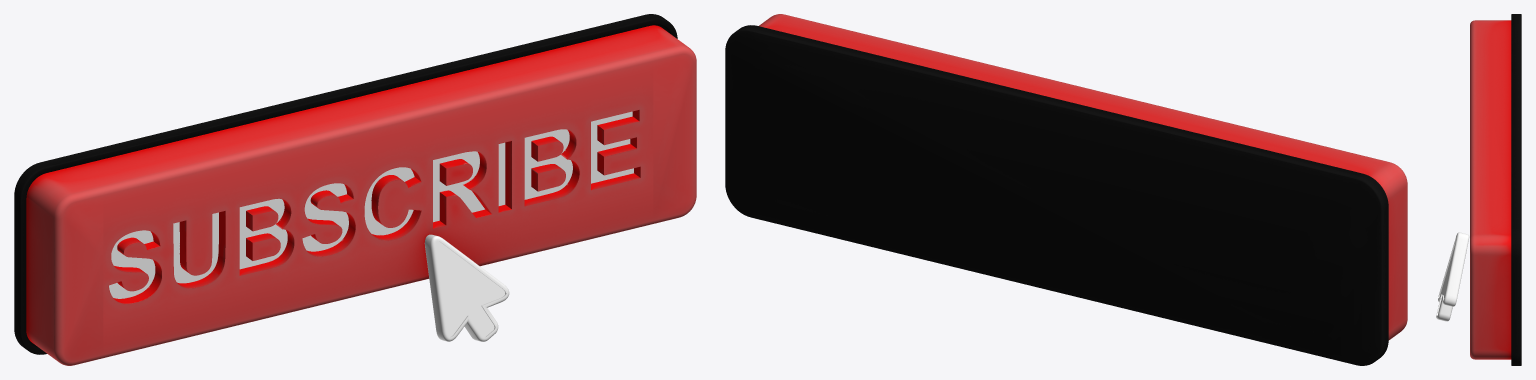
File: Subscribe Button.obj
3 renders of one model, left to right at view 1: azimuth 30°, elevation 25°; view 2: azimuth 150°, elevation 25°; view 3: azimuth 270°, elevation 25°, orthographic. The views are drawn at different scales.
Visible parts, largest first — view 1: SUBSCRIBE_Cube; view 2: SUBSCRIBE_Cube; view 3: SUBSCRIBE_Cube.
Part boxes in pixels (box(x1,y1,x2,y2)): SUBSCRIBE_Cube: box(14, 14, 696, 365); SUBSCRIBE_Cube: box(725, 14, 1407, 365); SUBSCRIBE_Cube: box(1436, 14, 1521, 365).
Size of the model in its own units: 6.73 by 2.29 by 1.05.
1 material, 1 textured.
